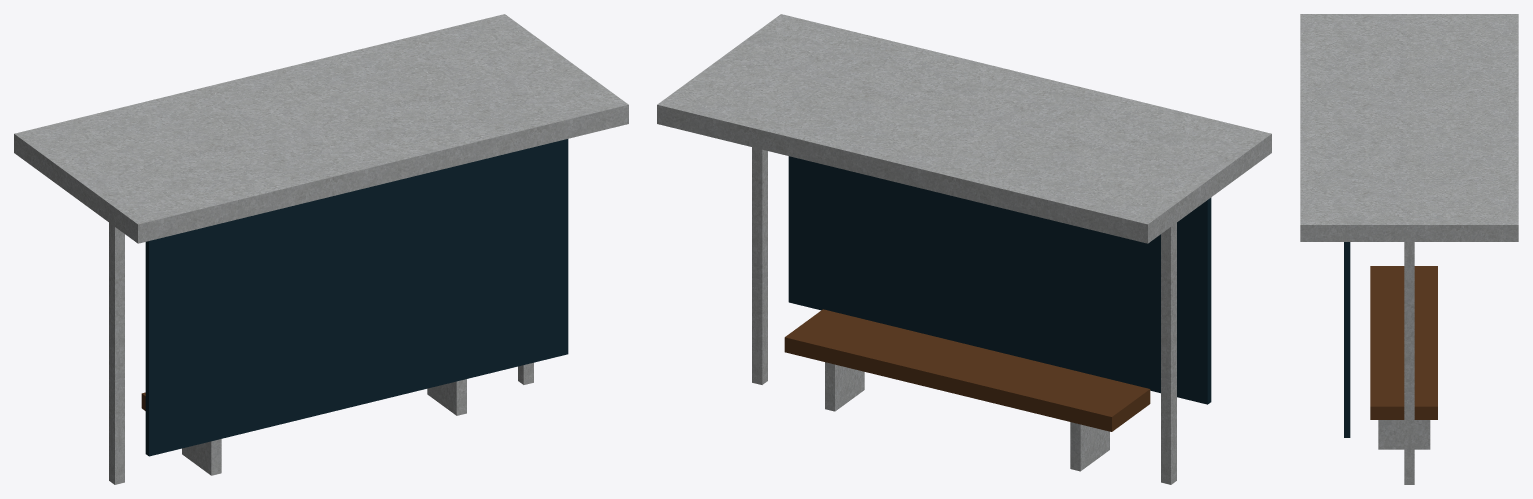
Rendered from bus_shelter.obj.
The picture shows the model from 3 angles, left to right: view 1: azimuth 30°, elevation 25°; view 2: azimuth 150°, elevation 25°; view 3: azimuth 270°, elevation 25°; orthographic projection. The views are drawn at different scales.
Visible parts, largest first — view 1: Window_Glass, Roof_Metal, Dark_Frame; view 2: Roof_Metal, Window_Glass, Wood, Dark_Frame; view 3: Roof_Metal, Wood, Dark_Frame, Window_Glass.
Boxes of the visible parts, x1,y1,x2,y2 form: Window_Glass: (145, 139, 568, 456); Roof_Metal: (14, 14, 628, 243); Dark_Frame: (109, 222, 533, 484); Roof_Metal: (657, 14, 1271, 243); Window_Glass: (788, 156, 1211, 404); Wood: (784, 309, 1150, 431); Dark_Frame: (752, 147, 1176, 484); Roof_Metal: (1300, 14, 1518, 241); Wood: (1370, 266, 1437, 419); Dark_Frame: (1378, 242, 1430, 484); Window_Glass: (1344, 242, 1350, 437).
Bounding box in the file's own units: 4.8 × 2.92 × 2.1.
